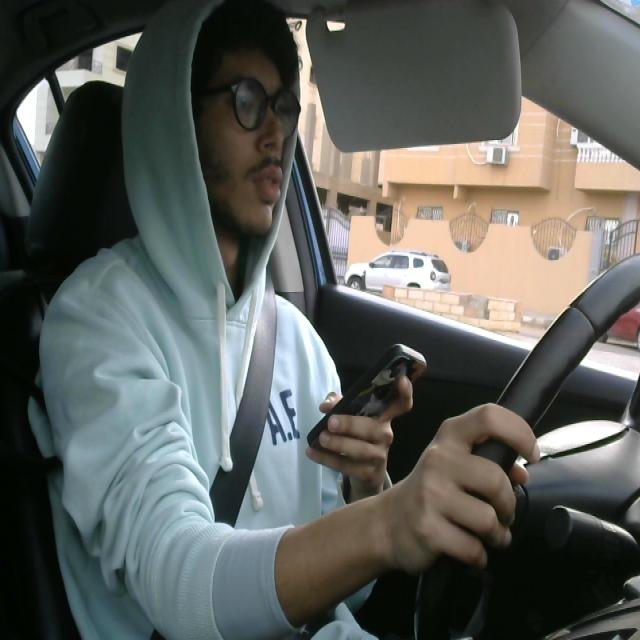mobile use: (302, 340, 434, 457)
